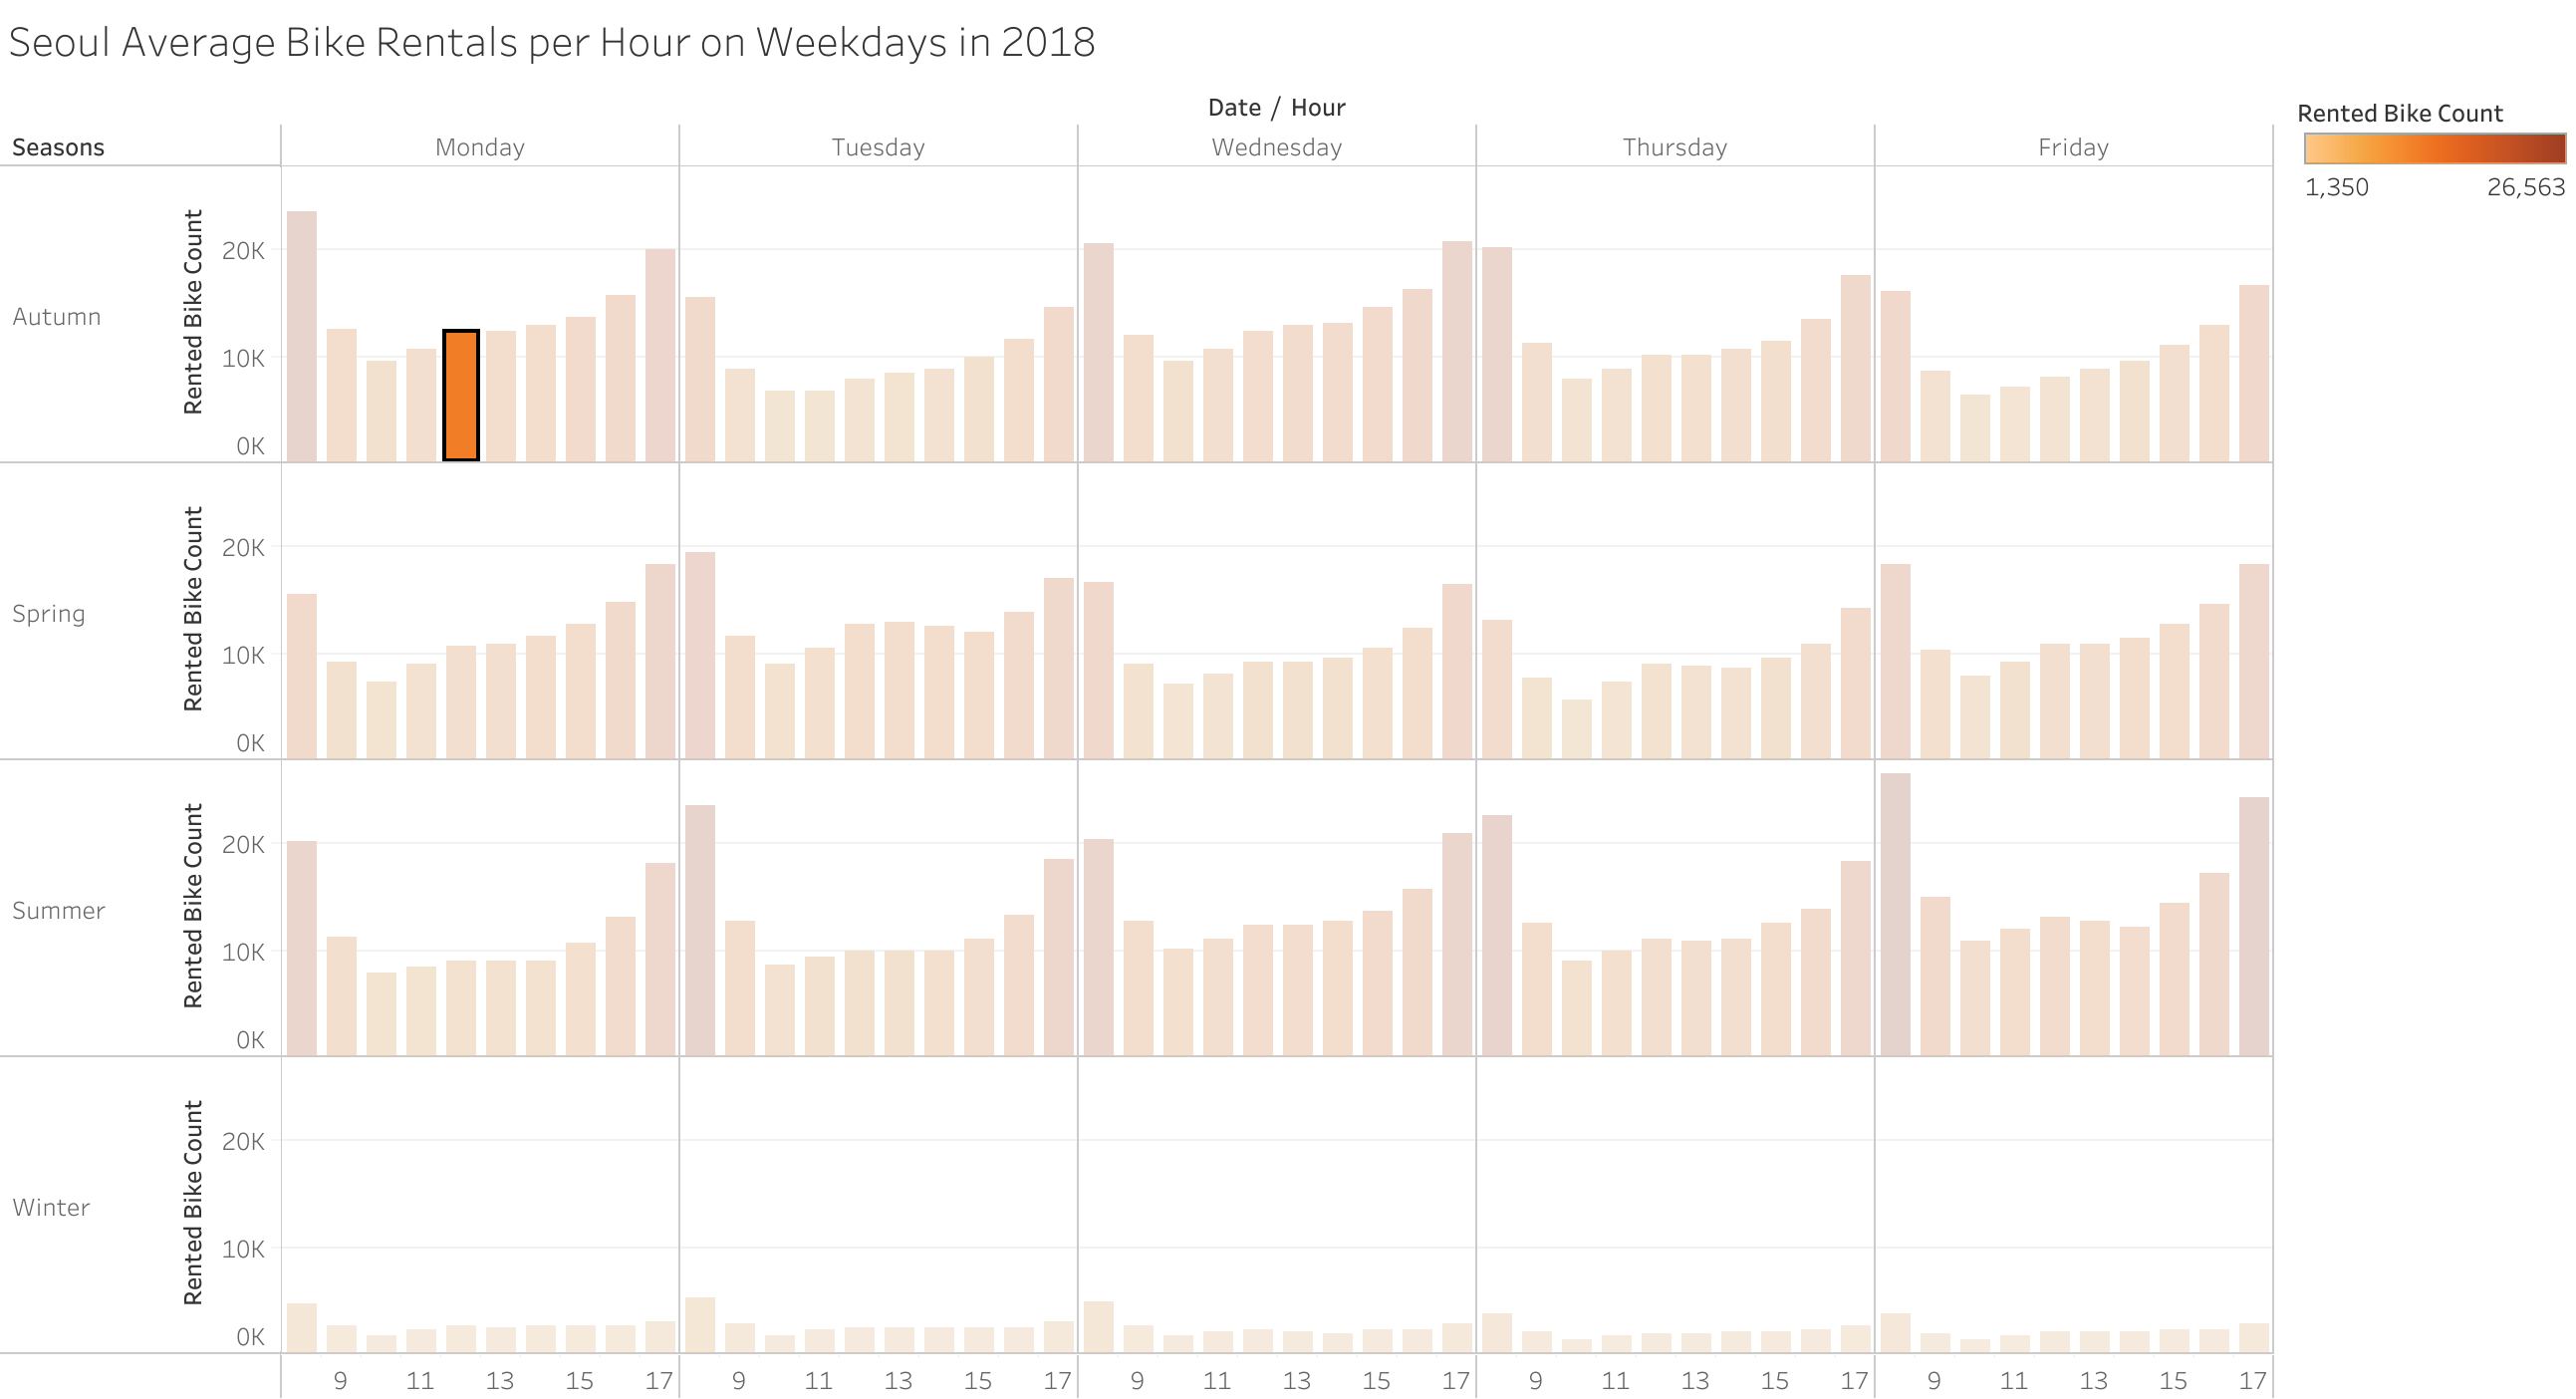

What the dashboard file says about the page in this screenshot:
{"tool":"tableau","page":{"name":"Dashboard 1","canvas":[1000,800],"ordinal":0},"visuals":[{"type":"worksheet","title":"Weekday","mark":"Bar","rows":["Rented Bike Count"],"cols":["Date","Date"],"box":[8,8,824,392]},{"type":"legend","title":"Adjacent-day","param":"[federated.0qxop0q0fi64pu1bqj3f10dm145e].[none:Holiday:nk]","box":[832,8,160,67]},{"type":"currpage","title":"Adjacent-day","box":[832,75,160,133]},{"type":"currpage","title":"Weekday","box":[832,208,160,133]},{"type":"worksheet","title":"Adjacent-day","mark":"Bar","rows":["Rented Bike Count"],"cols":["Date"],"box":[8,400,824,392]}]}

Visuals, with their boxes on the page's 1000x800 design canvas (x1, y1, x2, y2). These are canvas units, not pixel positions in the 2576x1399 screenshot, which may show the page scaled, cropped or inside an application window:
"Weekday" worksheet (Bar marks): 8:8:832:400
"Adjacent-day" legend: 832:8:992:75
"Adjacent-day" currpage: 832:75:992:208
"Weekday" currpage: 832:208:992:341
"Adjacent-day" worksheet (Bar marks): 8:400:832:792
